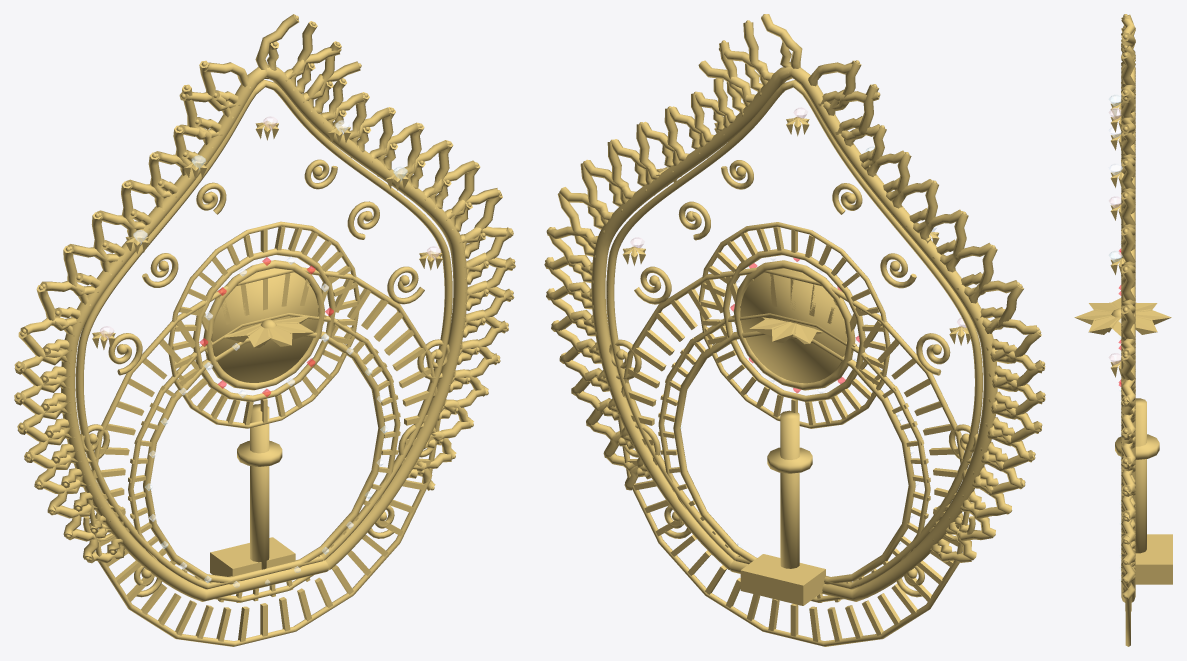
Rendered from kohai.glb.
3 renders of one model, left to right at view 1: azimuth 30°, elevation 25°; view 2: azimuth 150°, elevation 25°; view 3: azimuth 270°, elevation 25°, orthographic.
Parts seen in each view (by area): view 1: trim, trim.001, Cylinder, Torus.005, Torus.003, fittings, Torus.004, Torus.002, Torus.001, Torus, Cylinder.001, stay (+5 smaller); view 2: trim, trim.001, Cylinder, Torus.005, Torus.003, stay, Torus.004, Torus.001, Cylinder.001, Torus.002, Torus, fittings (+3 smaller); view 3: fittings, stay, Cylinder.001, trim, Cylinder.002, g_sakura, trim.052, trim.034, trim.037, g_hari, Torus.005, trim.031 (+20 smaller).
Boxes of the visible parts, x1=… form: trim: x1=61, y1=65, x2=467, y2=601; trim.001: x1=75, y1=79, x2=452, y2=589; Cylinder: x1=211, y1=268, x2=318, y2=382; Torus.005: x1=87, y1=267, x2=441, y2=646; Torus.003: x1=143, y1=331, x2=385, y2=584; fittings: x1=92, y1=121, x2=442, y2=349; Torus.004: x1=128, y1=313, x2=400, y2=602; Torus.002: x1=168, y1=221, x2=360, y2=428; Torus.001: x1=193, y1=248, x2=335, y2=401; Torus: x1=203, y1=260, x2=324, y2=390; Cylinder.001: x1=250, y1=404, x2=269, y2=569; stay: x1=210, y1=537, x2=295, y2=576; trim: x1=591, y1=65, x2=997, y2=601; trim.001: x1=606, y1=80, x2=982, y2=589; Cylinder: x1=740, y1=268, x2=847, y2=383; Torus.005: x1=617, y1=267, x2=971, y2=646; Torus.003: x1=673, y1=331, x2=915, y2=584; stay: x1=740, y1=554, x2=825, y2=605; Torus.004: x1=658, y1=313, x2=930, y2=602; Torus.001: x1=723, y1=248, x2=865, y2=401; Cylinder.001: x1=780, y1=410, x2=799, y2=568; Torus.002: x1=698, y1=222, x2=890, y2=428; Torus: x1=733, y1=260, x2=855, y2=390; fittings: x1=622, y1=116, x2=970, y2=345; fittings: x1=1074, y1=102, x2=1171, y2=377; stay: x1=1135, y1=534, x2=1172, y2=584; Cylinder.001: x1=1135, y1=398, x2=1146, y2=553; trim: x1=1121, y1=63, x2=1135, y2=602; Cylinder.002: x1=1115, y1=434, x2=1159, y2=459; g_sakura: x1=1108, y1=108, x2=1121, y2=364; trim.052: x1=1121, y1=52, x2=1135, y2=92; trim.034: x1=1121, y1=268, x2=1135, y2=307; trim.037: x1=1121, y1=229, x2=1135, y2=269; g_hari: x1=1108, y1=126, x2=1122, y2=579; Torus.005: x1=1125, y1=564, x2=1130, y2=646; trim.031: x1=1121, y1=309, x2=1135, y2=344.
Bounding box in the file's own units: 1.27 × 1.51 × 0.222.
